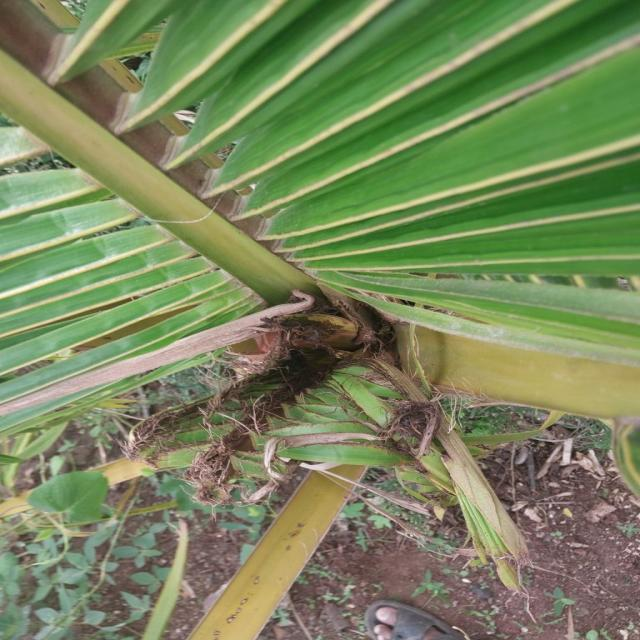bud rot: (127, 296, 473, 505)
